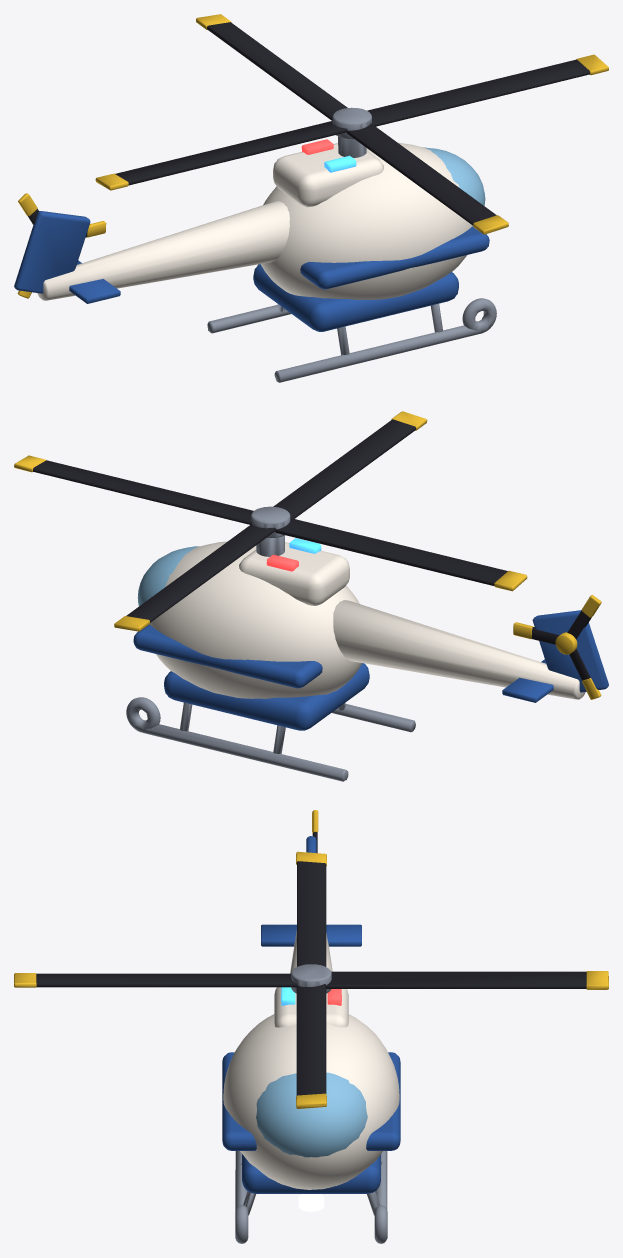
Rendered from heli.glb.
The picture shows the model from 3 angles, top to bottom: view 1: azimuth 30°, elevation 25°; view 2: azimuth 150°, elevation 25°; view 3: azimuth 270°, elevation 25°; orthographic projection. The views are drawn at different scales.
Parts seen in each view (by area): view 1: heli.008, rotor.008, tail_rotor.008; view 2: heli.008, rotor.008, tail_rotor.008; view 3: heli.008, rotor.008.
Boxes of the visible parts, x1,y1,x2,y2 form: heli.008: (14, 136, 496, 382); rotor.008: (95, 14, 608, 234); tail_rotor.008: (17, 193, 106, 298); heli.008: (126, 535, 608, 781); rotor.008: (14, 411, 527, 631); tail_rotor.008: (513, 595, 601, 699); heli.008: (222, 836, 400, 1243); rotor.008: (14, 851, 608, 1108).
Bounding box in the file's own units: 7.53 × 2.65 × 6.41.
1 material, 1 textured.
